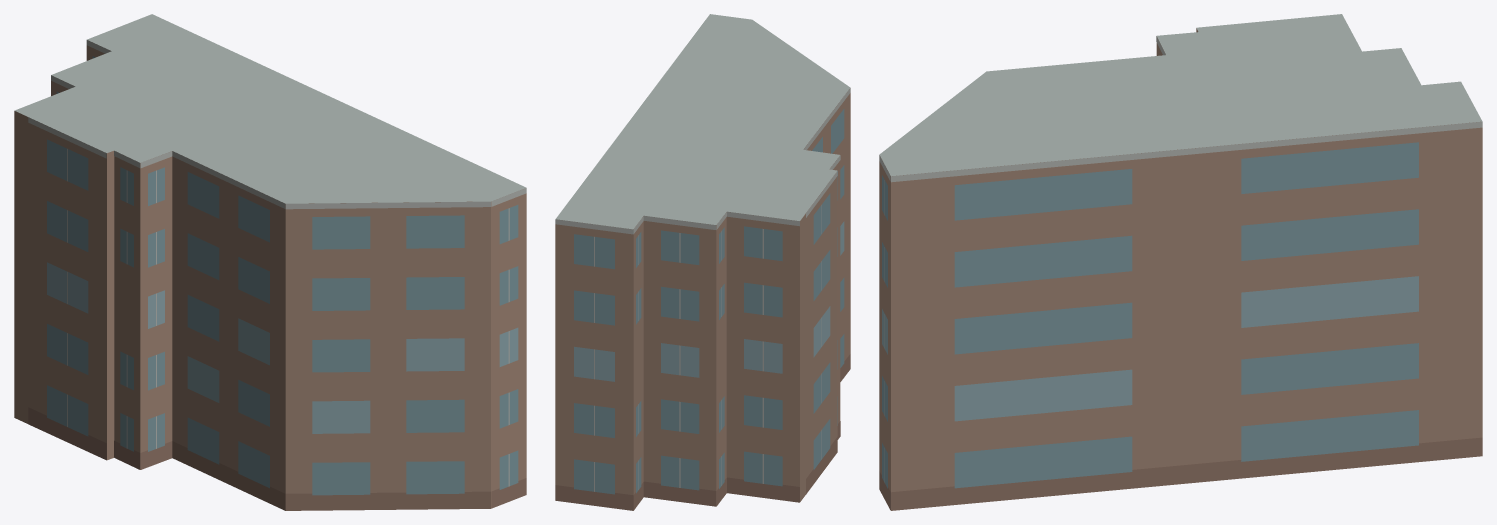
Rendered from survey-upis-32663178.glb.
The picture shows the model from 3 angles, left to right: view 1: azimuth 30°, elevation 25°; view 2: azimuth 150°, elevation 25°; view 3: azimuth 270°, elevation 25°; orthographic projection. The views are drawn at different scales.
Parts seen in each view (by area): view 1: survey-upis-32663178.tmp; view 2: survey-upis-32663178.tmp; view 3: survey-upis-32663178.tmp.
Boxes of the visible parts, x1,y1,x2,y2 form: survey-upis-32663178.tmp: [14, 14, 526, 510]; survey-upis-32663178.tmp: [555, 14, 850, 510]; survey-upis-32663178.tmp: [879, 14, 1482, 510].
Bounding box in the file's own units: 14.1 × 13.55 × 22.15.
